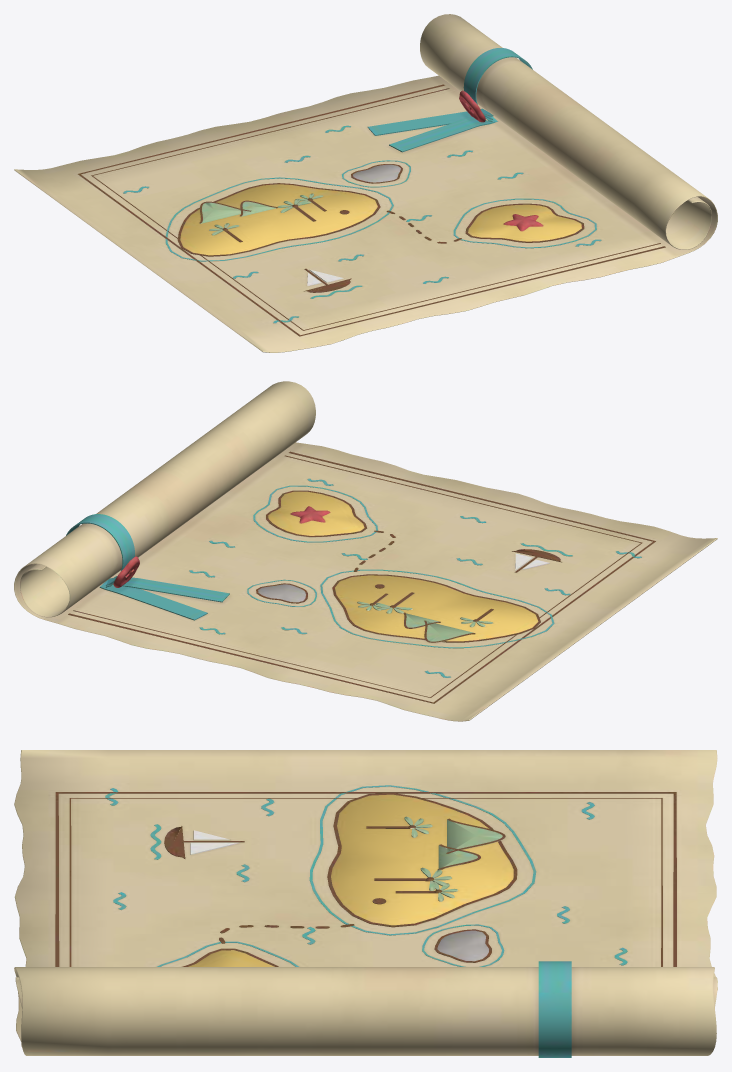
Rendered from mapa_tesoro.glb.
3 renders of one model, top to bottom at view 1: azimuth 30°, elevation 25°; view 2: azimuth 150°, elevation 25°; view 3: azimuth 270°, elevation 25°, orthographic. The views are drawn at different scales.
Parts seen in each view (by area): view 1: treasure-map_body; view 2: treasure-map_body; view 3: treasure-map_body.
Boxes of the visible parts, left/top/right/bottom form: treasure-map_body: left=14, top=14, right=717, bottom=352; treasure-map_body: left=14, top=381, right=717, bottom=721; treasure-map_body: left=14, top=750, right=717, bottom=1057.
Size of the model in its own units: 0.4498 by 0.0579 by 0.4284.
1 material, 1 textured.
